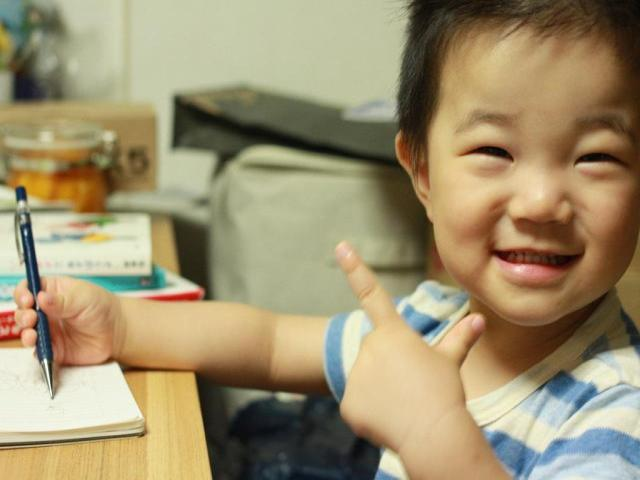PEN: (0, 181, 70, 409)
